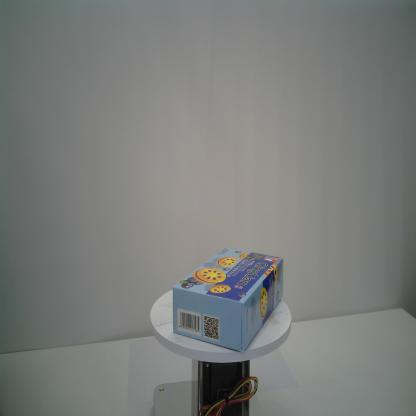Dessert: (172, 247, 284, 354)
